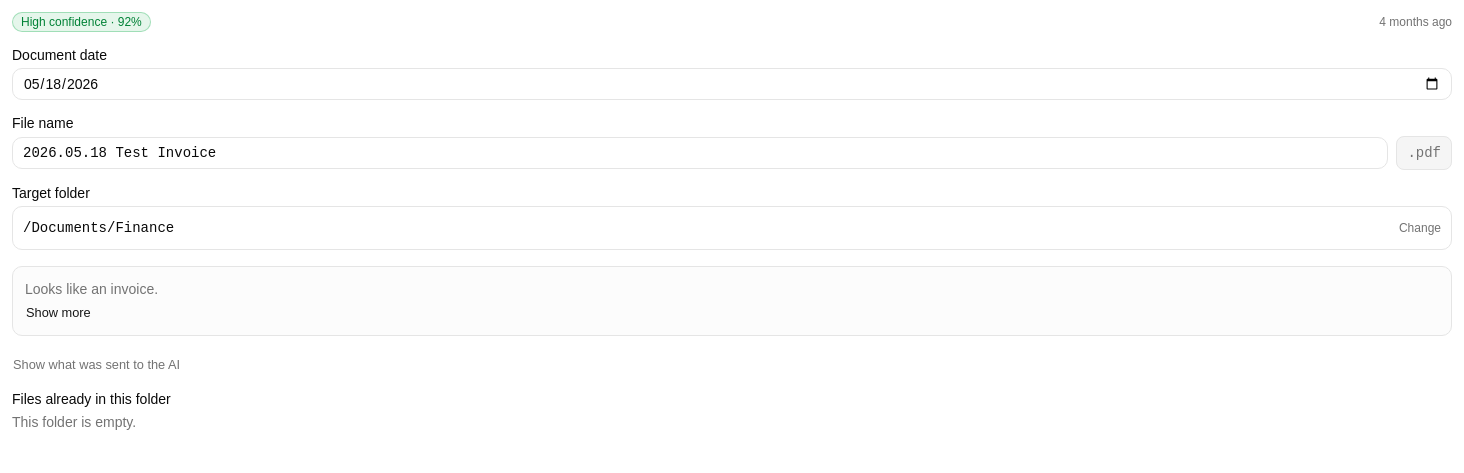
Test case: ReviewForm › shows a non-blocking pattern-mismatch warning without disabling anything
Replace the text in the field labelled "File name" with "no date prefix" at (700, 153), box [12, 137, 1388, 169]
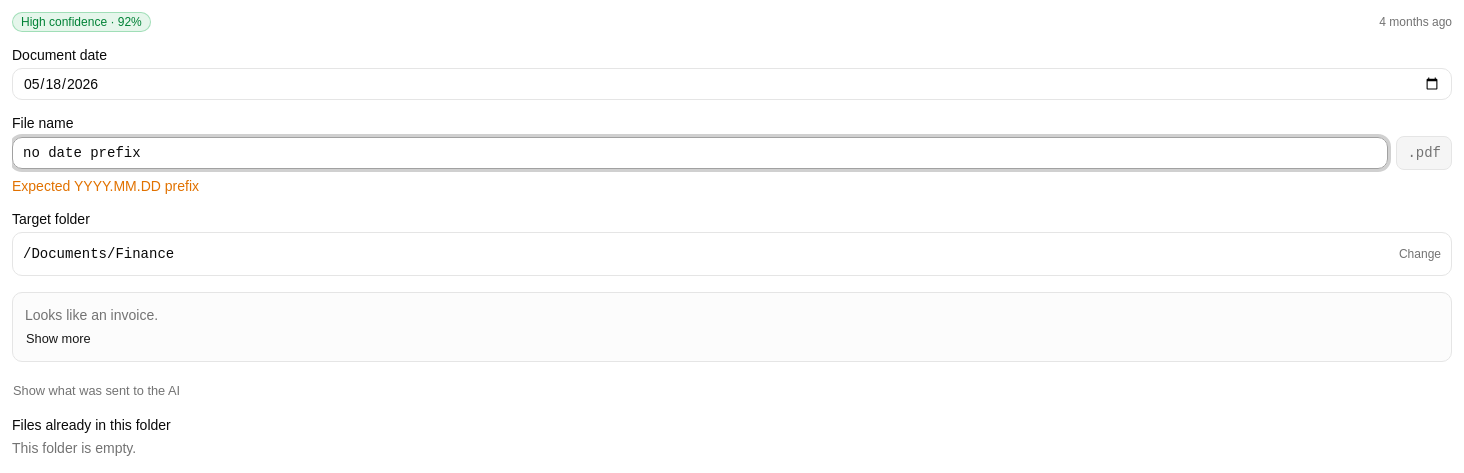
Expected: the text "Expected YYYY.MM.DD prefix" is shown, [12, 178, 199, 194]
